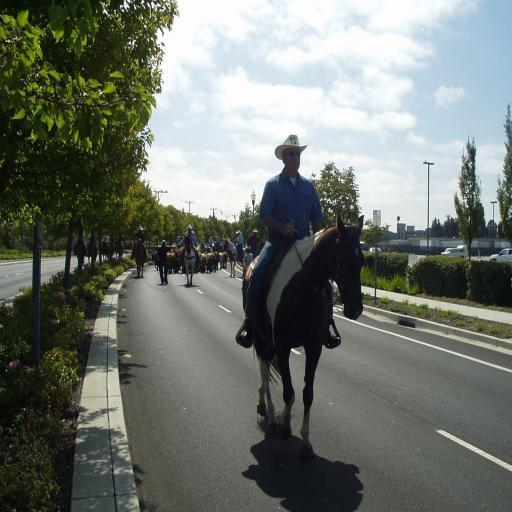horse: (240, 207, 366, 459), (222, 238, 250, 280), (182, 232, 198, 284), (132, 238, 146, 280)
